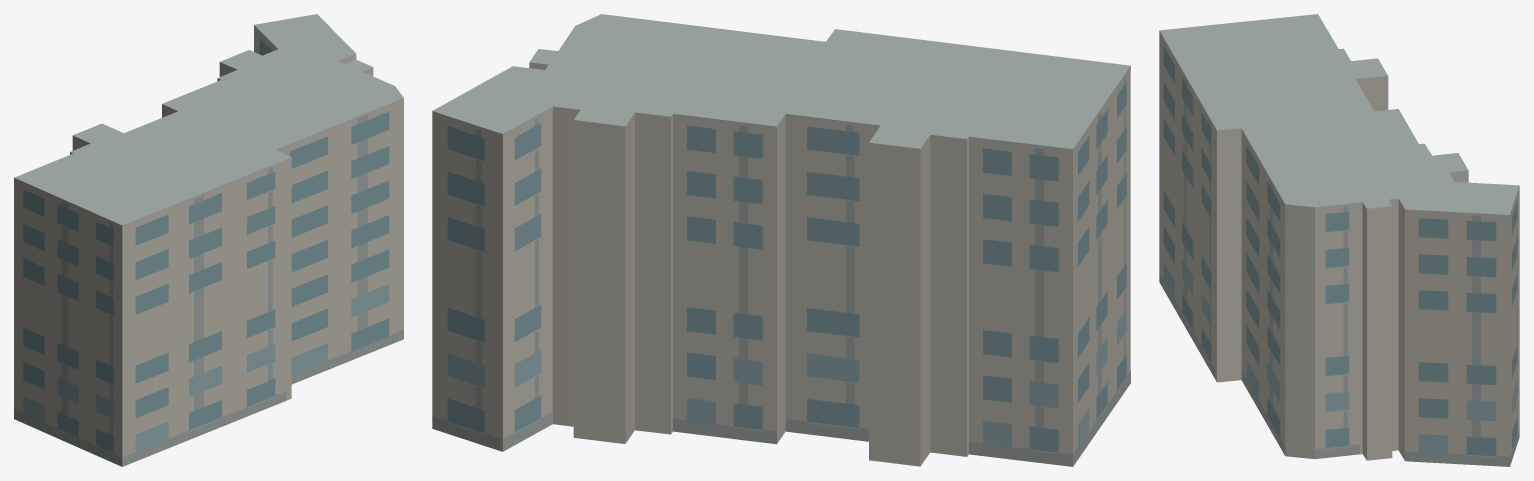
Rendered from survey-upis-32835650.glb.
The picture shows the model from 3 angles, left to right: view 1: azimuth 30°, elevation 25°; view 2: azimuth 150°, elevation 25°; view 3: azimuth 270°, elevation 25°; orthographic projection. The views are drawn at different scales.
Visible parts, largest first — view 1: survey-upis-32835650.tmp; view 2: survey-upis-32835650.tmp; view 3: survey-upis-32835650.tmp.
Part boxes in pixels (left/top/right/bottom): survey-upis-32835650.tmp: left=14, top=14, right=403, bottom=466; survey-upis-32835650.tmp: left=432, top=14, right=1130, bottom=466; survey-upis-32835650.tmp: left=1159, top=14, right=1519, bottom=466.
Size of the model in its own units: 38.18 by 22.3 by 28.91.
